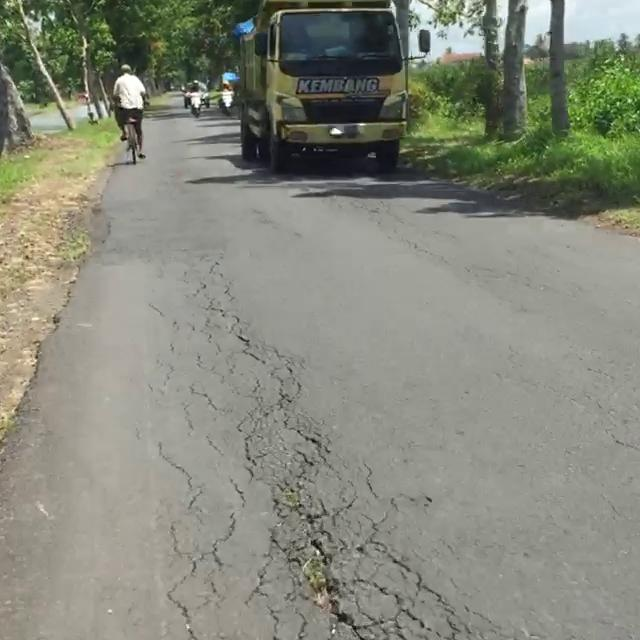retak_kulit_buaya: (109, 274, 461, 640)
